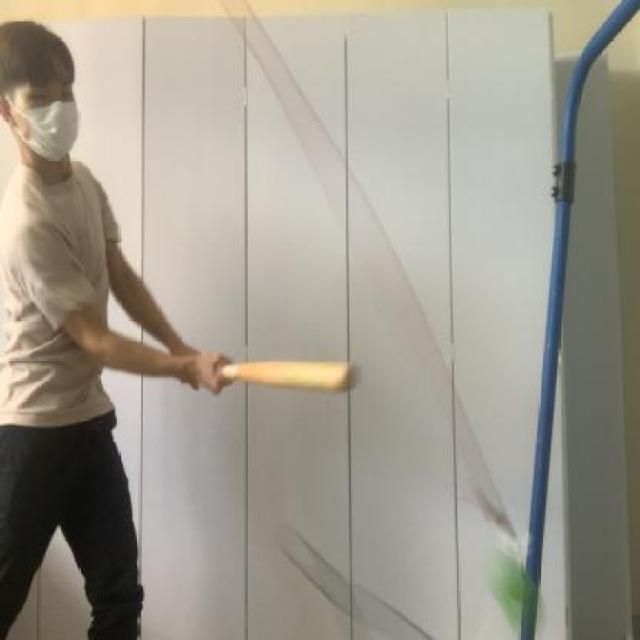baseball: (482, 543, 544, 637)
